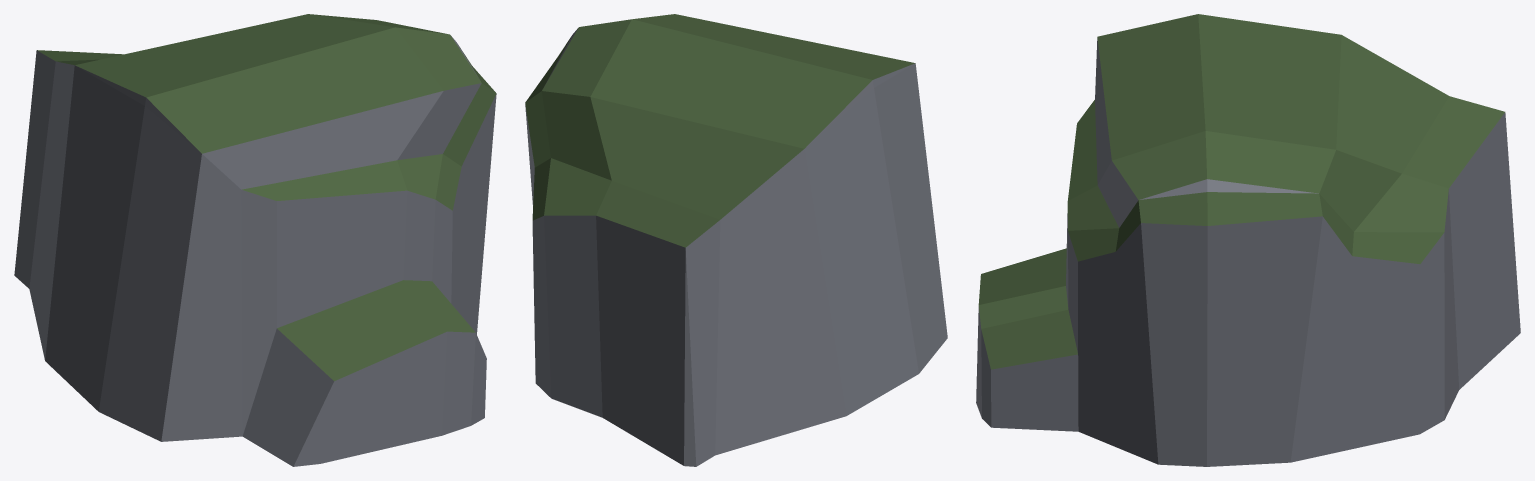
File: Rock_Moss_6.gltf
3 renders of one model, left to right at view 1: azimuth 30°, elevation 25°; view 2: azimuth 150°, elevation 25°; view 3: azimuth 270°, elevation 25°, orthographic. The views are drawn at different scales.
Visible parts, largest first — view 1: Rock_Moss_6; view 2: Rock_Moss_6; view 3: Rock_Moss_6.
Part boxes in pixels (x1,y1,x2,y2): Rock_Moss_6: [14, 14, 496, 466]; Rock_Moss_6: [525, 14, 947, 466]; Rock_Moss_6: [976, 14, 1520, 466].
Bounding box in the file's own units: 0.912 × 0.7078 × 1.14.
